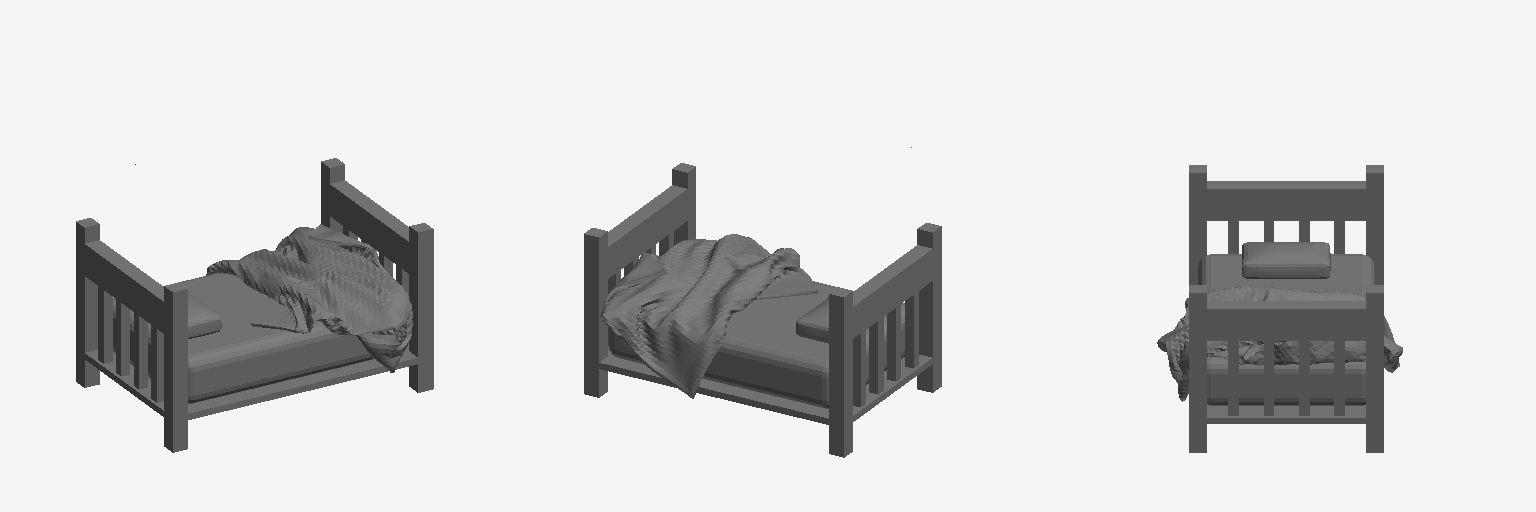
The model's file is beds_asleep.obj.
3 views of the same model, side by side, from view 1: azimuth 30°, elevation 25°; view 2: azimuth 150°, elevation 25°; view 3: azimuth 270°, elevation 25° (orthographic).
Visible parts, largest first — view 1: pCube126, pCube113, pCube116, pCube119, pCube117, pCube112, pCube124, pCube125, pCube123, pCube118, pCube122, pCube121 (+2 smaller); view 2: pCube126, pCube113, pCube116, pCube124, pCube125, pCube112, pCube110, pCube119, pCube117, pCube122, pCube118, pCube120 (+2 smaller); view 3: pCube113, pCube124, pCube126, pCube112, pCube118, pCube117, pCube110, pCube116, pCube125, pCube119, pCube111, pCube109 (+2 smaller).
Part boxes in pixels (x1,y1,x2,y2): pCube126: (135,164,412,372); pCube113: (113,273,406,403); pCube116: (78,343,433,421); pCube119: (164,282,187,452); pCube117: (409,223,433,392); pCube112: (325,180,408,273); pCube124: (84,240,168,335); pCube125: (76,218,99,387); pCube123: (98,286,112,363); pCube118: (188,292,221,338); pCube122: (116,299,129,376); pCube121: (134,312,147,389); pCube126: (600,147,911,398); pCube113: (609,281,904,408); pCube116: (584,346,941,426); pCube124: (849,245,936,340); pCube125: (829,287,852,457); pCube112: (604,185,691,281); pCube110: (584,228,607,397); pCube119: (917,223,941,392); pCube117: (672,163,695,244); pCube122: (869,317,883,394); pCube118: (796,297,828,343); pCube120: (905,291,918,368); pCube113: (1198,254,1374,405); pCube124: (1198,181,1374,220); pCube126: (1157,285,1402,401); pCube112: (1198,301,1374,340); pCube118: (1241,242,1330,278); pCube117: (1189,285,1206,452); pCube110: (1366,285,1383,452); pCube116: (1207,405,1383,423); pCube125: (1366,165,1383,284); pCube119: (1189,165,1206,284); pCube111: (1228,341,1238,415); pCube109: (1299,341,1309,415).
Bounding box in the file's own units: 86.27 × 82.58 × 69.51.